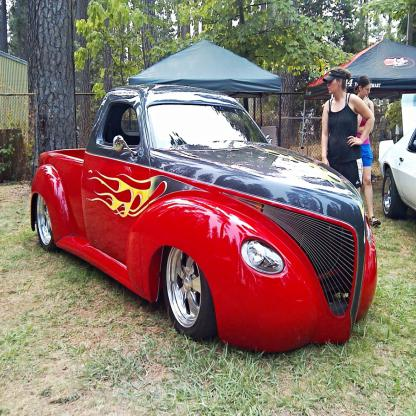Car: (30, 84, 377, 353), (377, 93, 415, 219)
Truck: (30, 86, 378, 352)
